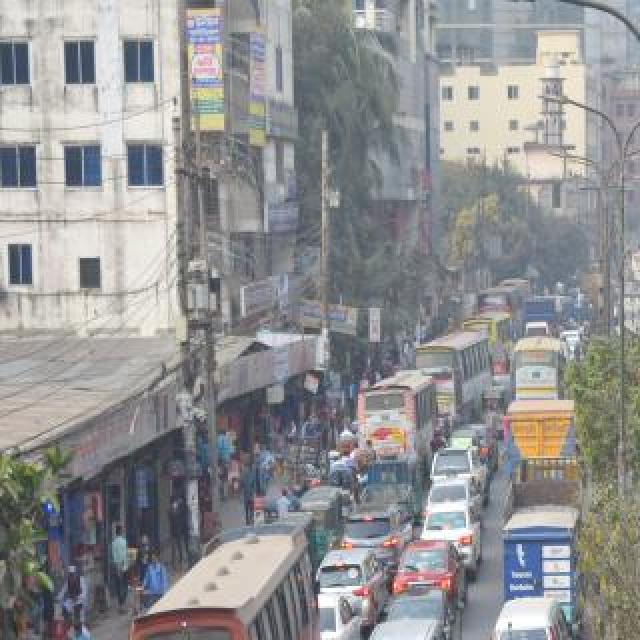bus: (134, 520, 316, 640), (357, 369, 441, 471), (414, 331, 492, 413), (505, 335, 571, 403), (610, 280, 640, 388), (462, 311, 514, 357), (477, 287, 523, 335), (579, 258, 609, 298), (630, 244, 640, 282)
car: (316, 541, 388, 621), (341, 500, 407, 576), (417, 507, 483, 569), (398, 539, 464, 597), (387, 584, 457, 632), (312, 584, 366, 640), (431, 443, 491, 493), (426, 477, 486, 517)
motorbike: (429, 426, 447, 460)
van: (501, 506, 581, 626), (500, 392, 588, 470), (503, 452, 583, 522), (353, 449, 415, 525), (486, 590, 576, 640), (362, 614, 458, 640), (522, 293, 560, 333), (566, 297, 594, 329), (524, 320, 550, 340)
